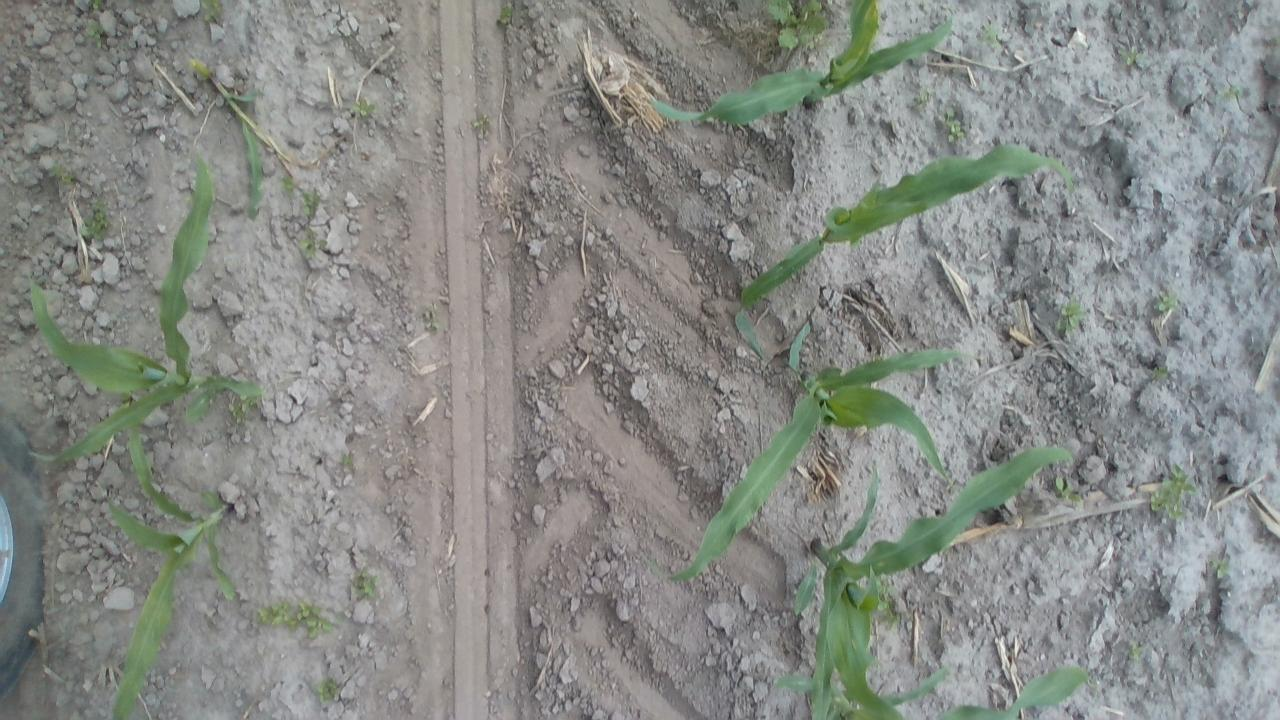Maize: (652, 316, 976, 594), (774, 441, 1087, 720), (13, 146, 270, 478), (727, 141, 1086, 364), (98, 403, 245, 720), (642, 0, 962, 132), (764, 648, 1096, 719), (189, 63, 295, 226)
Weeds: (760, 0, 831, 53), (251, 598, 339, 638), (1148, 462, 1198, 524), (74, 202, 110, 244), (1054, 296, 1088, 339), (225, 391, 262, 426), (938, 103, 969, 144), (42, 162, 82, 192), (876, 584, 902, 630), (349, 568, 384, 602), (1054, 474, 1087, 509), (310, 677, 346, 706), (344, 96, 380, 122), (1152, 288, 1182, 318), (297, 231, 328, 260), (298, 186, 326, 218), (1206, 551, 1235, 581), (1116, 44, 1146, 72), (83, 19, 111, 48), (975, 25, 1005, 52), (419, 304, 445, 335), (194, 0, 227, 24), (1122, 639, 1150, 667), (469, 110, 494, 139), (1218, 82, 1244, 106), (276, 175, 302, 198), (494, 3, 517, 28), (913, 87, 936, 112), (334, 449, 358, 472), (1152, 362, 1170, 387)
